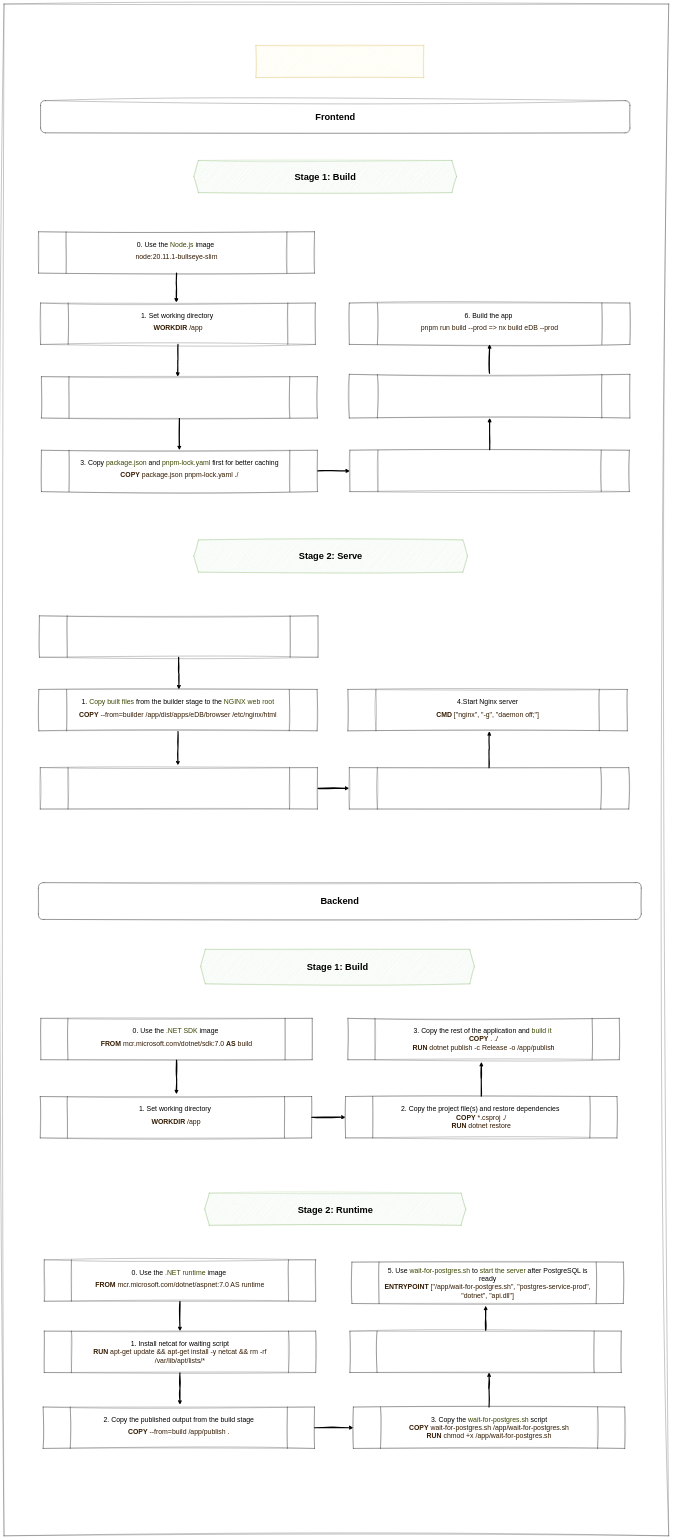
Image size: 673x1540. Some labels were removed from this diagram. The centre of each missing label's shape, as x and y in pixels:
0. Use a lightweight NGINX image nginx:alpine: (x=178, y=636)
2. Include a custom nginx.conf COPY nginx.conf /etc/nginx/conf.d/default.conf: (x=178, y=788)
2. Install pnpm globally using npm RUN npm install -g pnpm: (x=179, y=397)
3.Expose port 80 EXPOSE 80: (x=489, y=788)
4. Expose the required port EXPOSE 9101: (x=485, y=1352)
4. Install dependencies RUN pnpm install --frozen-lockfile: (x=489, y=471)
5. Copy the rest of the application code COPY . .: (x=489, y=396)
Dockerfiles: (x=340, y=61)
